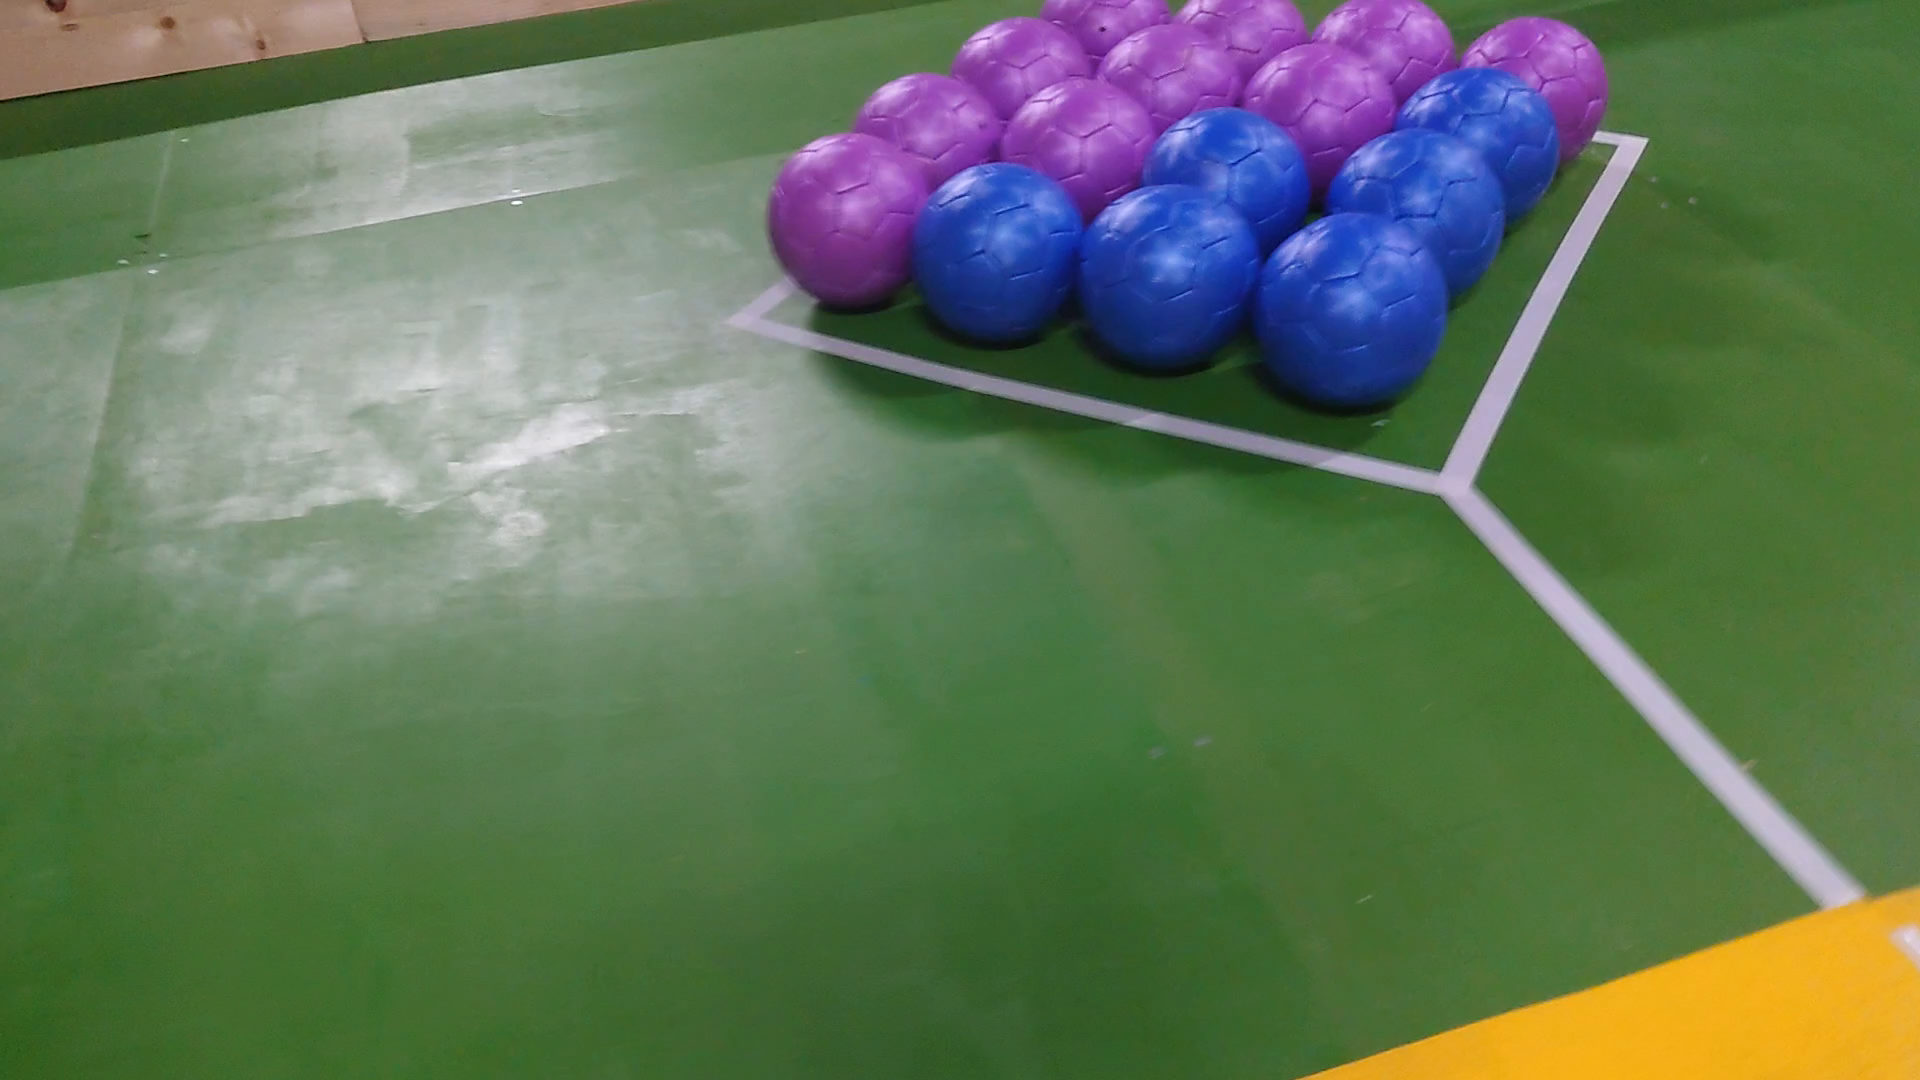blue: (1091, 183, 1274, 382), (1261, 222, 1449, 409), (918, 170, 1088, 356), (1332, 124, 1502, 265), (1130, 108, 1323, 206), (1400, 69, 1561, 170)
purple: (767, 124, 934, 316), (1013, 75, 1163, 193), (856, 66, 1009, 179), (1247, 33, 1394, 137), (1456, 13, 1613, 108), (1104, 26, 1244, 117), (960, 13, 1091, 98), (1319, 0, 1460, 78), (1179, 7, 1305, 53), (1038, 0, 1156, 49)
